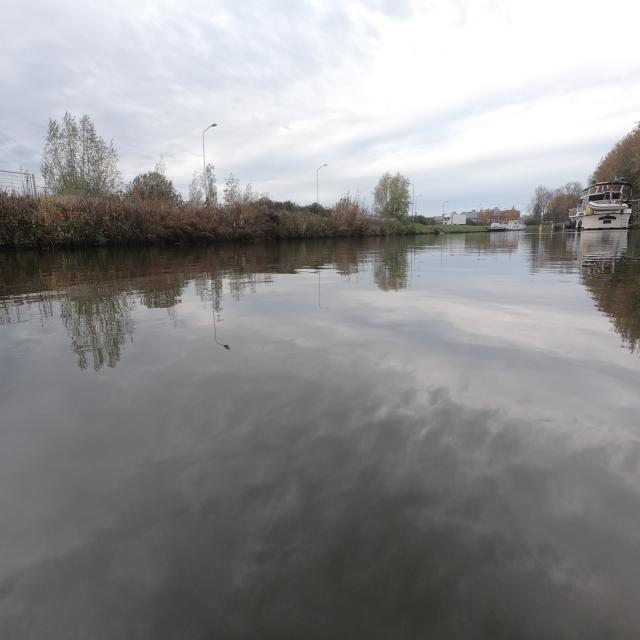boat: (565, 178, 632, 230), (490, 220, 525, 232)
reed: (0, 185, 414, 249)
sky: (2, 0, 638, 214)
water: (0, 231, 640, 640)
